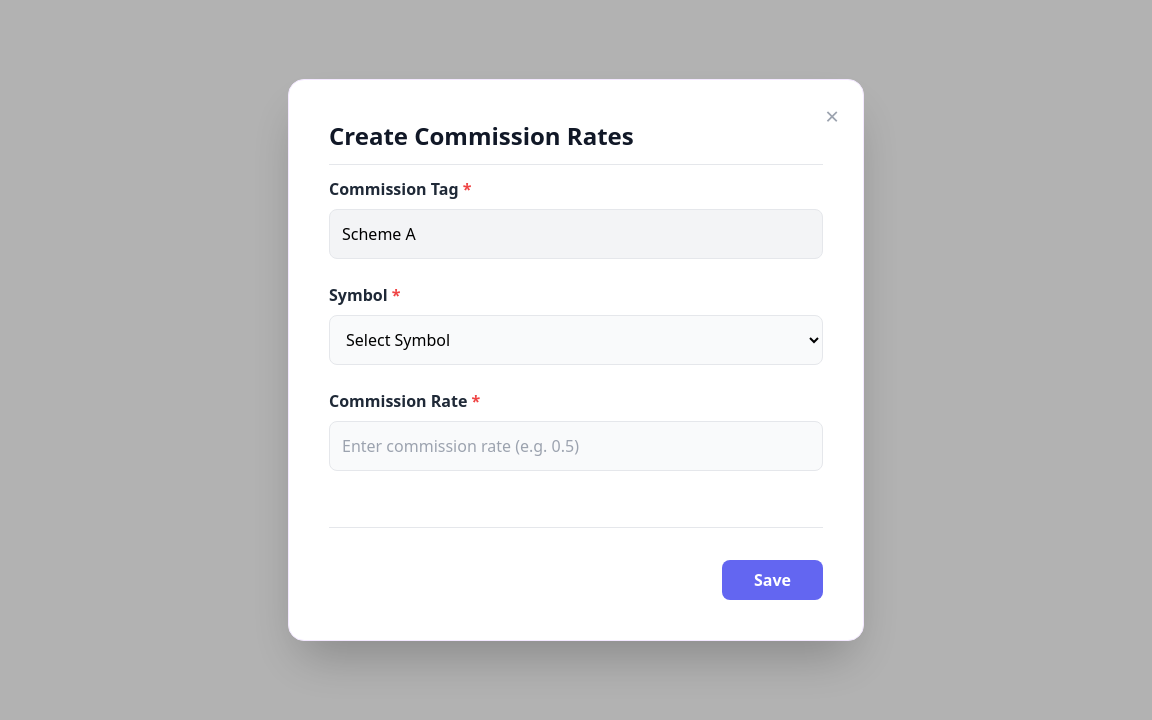
Test case: CommissionRateCreateModal › handles API error on submission
Select "USD" in the dropdown labelled "Symbol *" at (576, 340), box 329,315 -> 823,365
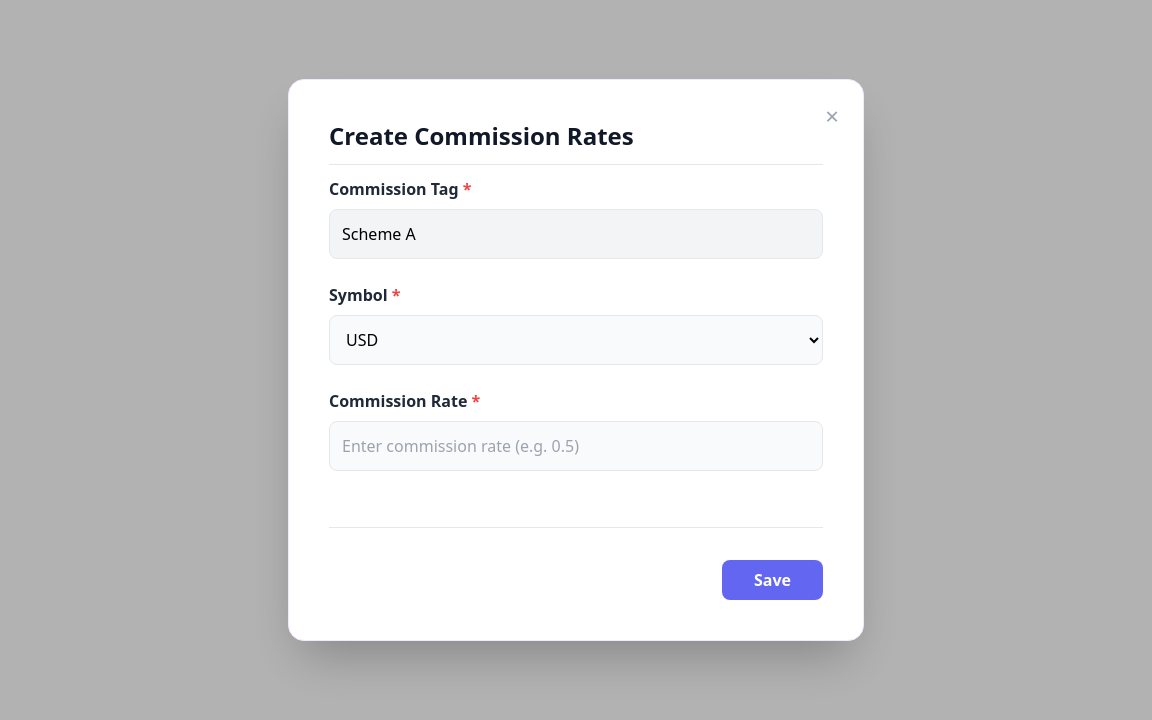
Type "0.5" into the number field labelled "Commission Rate *".
click(576, 446); type("0.5")  # box 329,421 -> 823,471
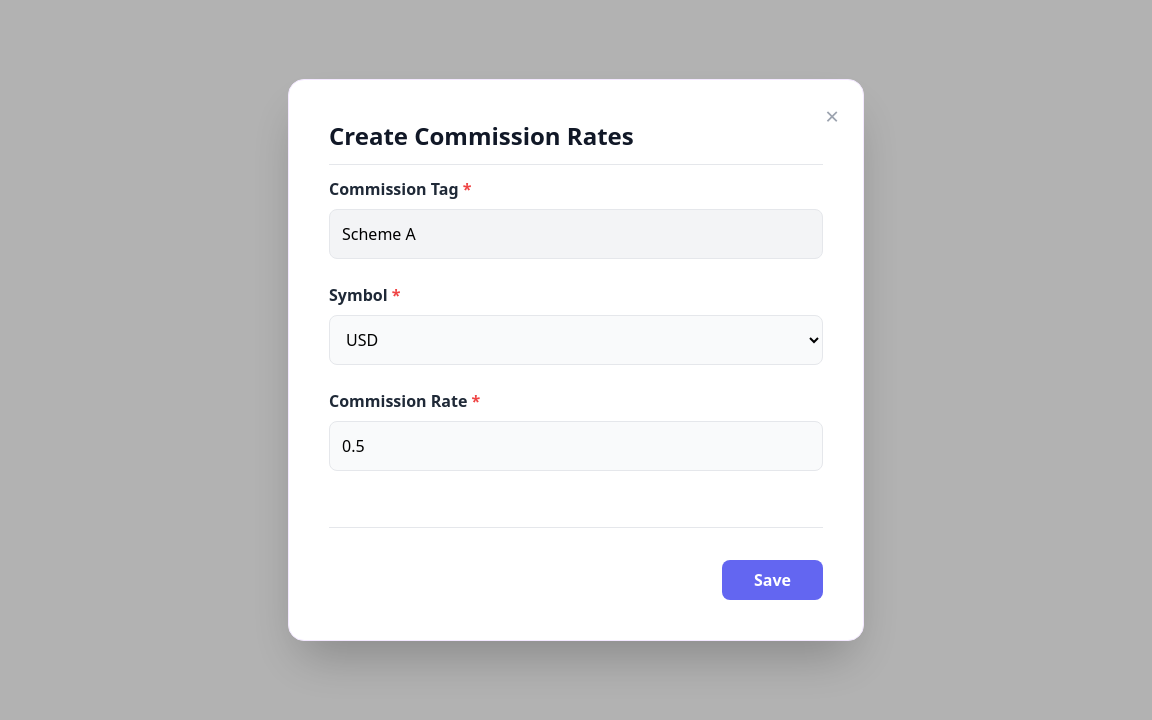
Click the button "Save".
click(772, 580)  # box 722,560 -> 823,600
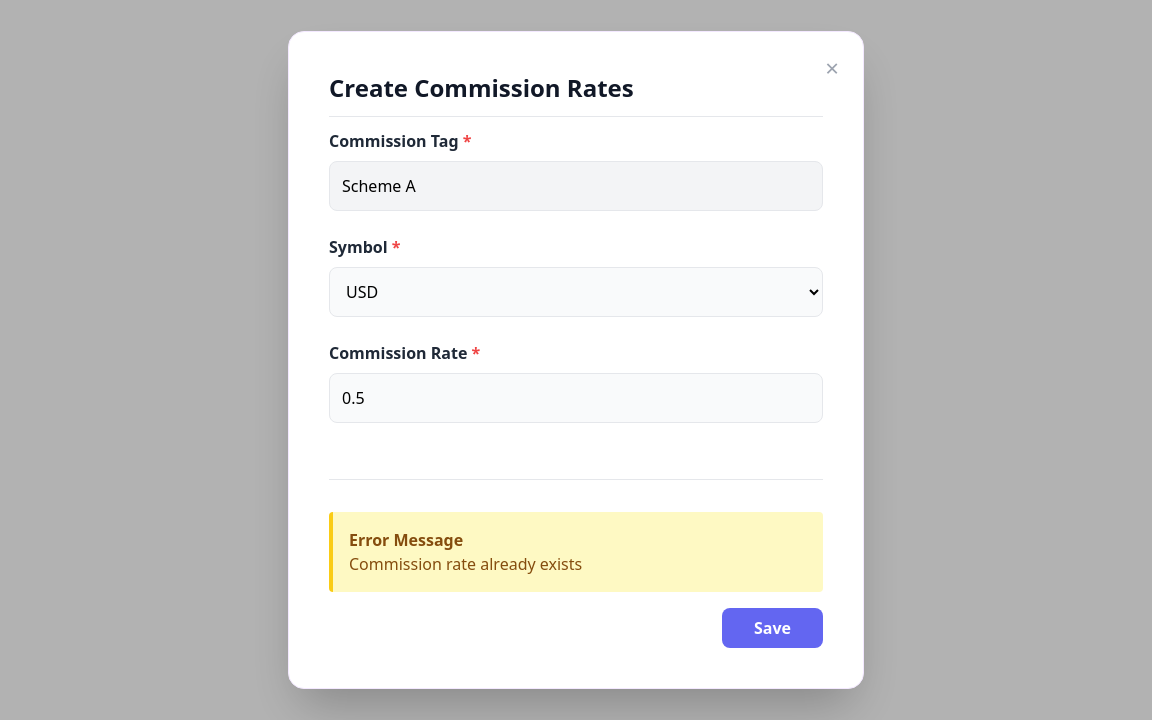
Expected: the text "Commission rate already exists" is shown, 349,553 -> 582,575
